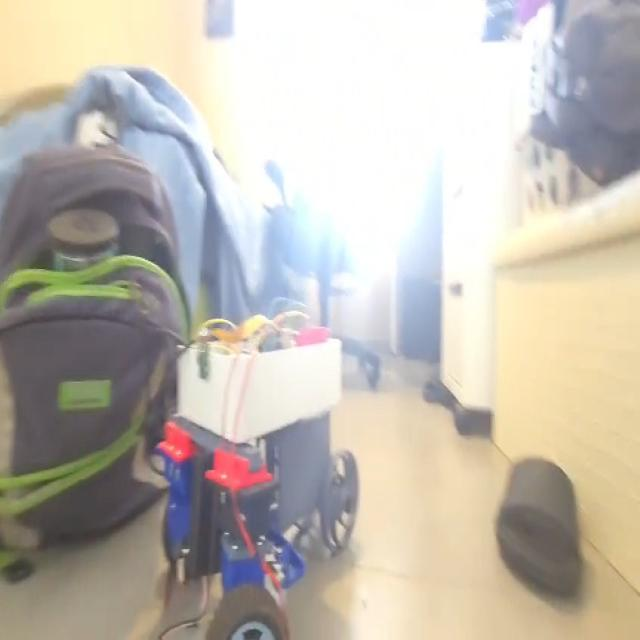Robot: (150, 308, 360, 639)
